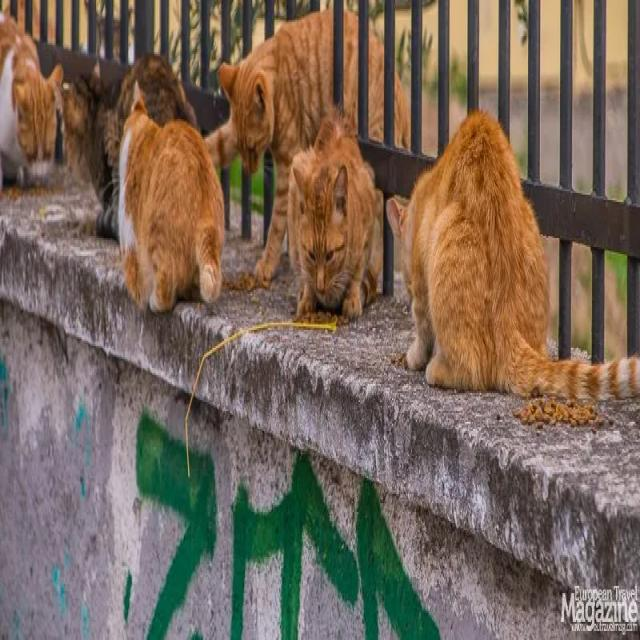cat: (386, 110, 640, 399), (206, 11, 332, 285), (62, 56, 197, 235), (119, 85, 224, 311), (288, 110, 382, 318), (0, 14, 62, 187), (369, 31, 384, 139), (344, 11, 358, 123), (395, 79, 410, 148)
